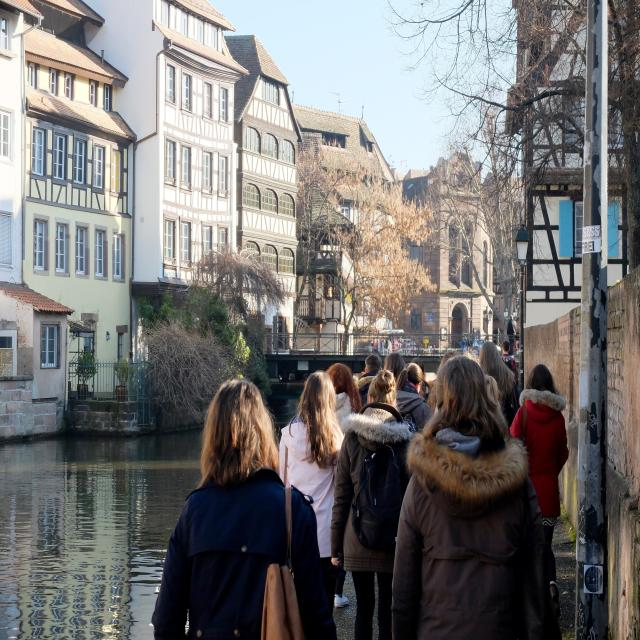body: (151, 375, 341, 640), (390, 354, 566, 640), (328, 366, 416, 640), (278, 370, 344, 640), (509, 364, 569, 620), (324, 362, 364, 610), (478, 341, 520, 434), (395, 362, 432, 435), (427, 352, 465, 414), (354, 353, 383, 407), (370, 336, 426, 356), (410, 358, 432, 403), (500, 340, 520, 389), (384, 352, 406, 386), (462, 344, 481, 368), (507, 314, 517, 356), (459, 337, 466, 355)
